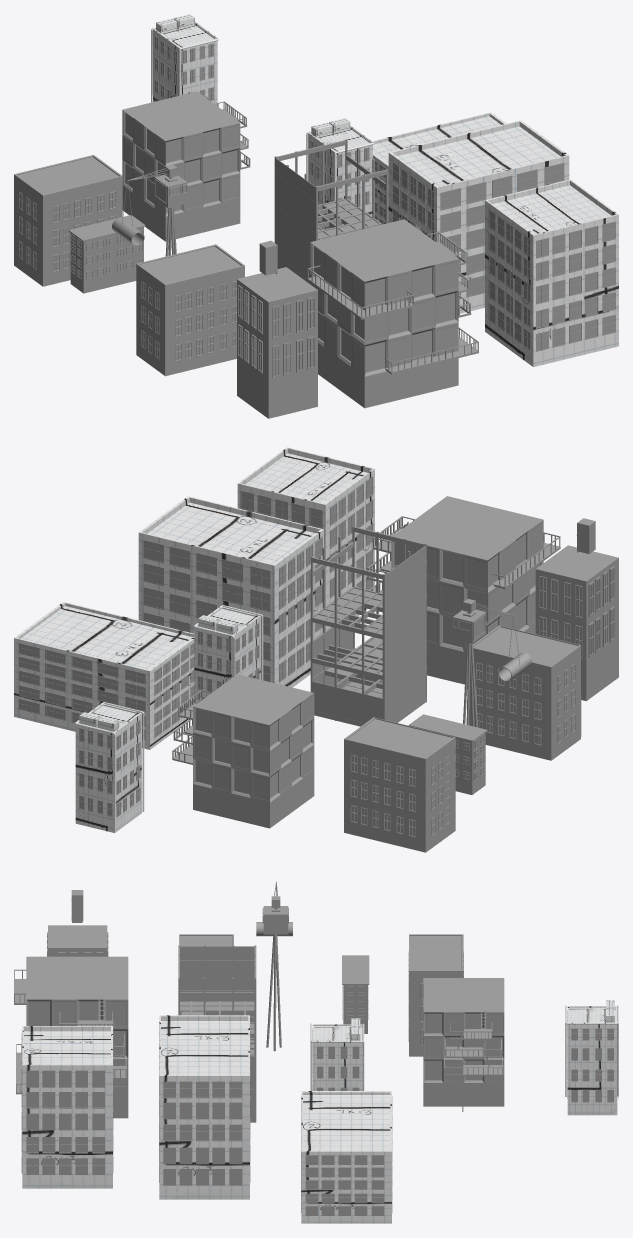
Rendered from Buildings_final.fbx.
The picture shows the model from 3 angles, top to bottom: view 1: azimuth 30°, elevation 25°; view 2: azimuth 150°, elevation 25°; view 3: azimuth 270°, elevation 25°; orthographic projection. The views are drawn at different scales.
Parts seen in each view (by area): view 1: pCylinder35, polySurface803, polySurface802, pCylinder72, pCube170, polySurface1655, pCube411, polySurface611, pCube412, polySurface1646, pCube410, polySurface1620 (+4 smaller); view 2: polySurface802, polySurface611, polySurface1620, pCylinder72, pCylinder35, pCube411, pCube170, polySurface803, polySurface1655, pCube412, pCube410, polySurface810 (+4 smaller); view 3: polySurface802, polySurface803, polySurface1620, pCylinder72, pCylinder35, polySurface611, pCube412, polySurface810, pCube410, pCube411, polySurface528, polySurface1655 (+2 smaller).
Part boxes in pixels (x1=…): pCylinder35: x1=310, y1=219, x2=478, y2=408; polySurface803: x1=485, y1=179, x2=618, y2=366; polySurface802: x1=388, y1=120, x2=569, y2=313; pCylinder72: x1=122, y1=91, x2=250, y2=241; pCube170: x1=136, y1=244, x2=244, y2=376; polySurface1655: x1=237, y1=267, x2=317, y2=418; pCube411: x1=14, y1=155, x2=122, y2=286; polySurface611: x1=274, y1=139, x2=388, y2=283; pCube412: x1=151, y1=14, x2=218, y2=105; polySurface1646: x1=68, y1=215, x2=145, y2=293; pCube410: x1=306, y1=118, x2=374, y2=229; polySurface1620: x1=372, y1=112, x2=506, y2=223; polySurface802: x1=138, y1=496, x2=323, y2=687; polySurface611: x1=310, y1=526, x2=426, y2=726; polySurface1620: x1=14, y1=602, x2=194, y2=749; pCylinder72: x1=172, y1=674, x2=314, y2=828; pCylinder35: x1=367, y1=496, x2=543, y2=684; pCube411: x1=344, y1=717, x2=455, y2=852; pCube170: x1=469, y1=625, x2=581, y2=760; polySurface803: x1=237, y1=447, x2=374, y2=630; polySurface1655: x1=535, y1=545, x2=618, y2=701; pCube412: x1=75, y1=702, x2=144, y2=832; pCube410: x1=193, y1=605, x2=263, y2=703; polySurface810: x1=14, y1=603, x2=194, y2=743; polySurface802: x1=159, y1=1015, x2=250, y2=1199; polySurface803: x1=21, y1=1026, x2=113, y2=1188; polySurface1620: x1=301, y1=1091, x2=392, y2=1223; pCylinder72: x1=423, y1=978, x2=504, y2=1106; pCylinder35: x1=16, y1=956, x2=128, y2=1118; polySurface611: x1=178, y1=945, x2=256, y2=1122; pCube412: x1=565, y1=1000, x2=618, y2=1115; polySurface810: x1=301, y1=1092, x2=392, y2=1221; pCube410: x1=310, y1=1018, x2=364, y2=1090; pCube411: x1=408, y1=934, x2=463, y2=1056; polySurface528: x1=256, y1=881, x2=292, y2=1051; polySurface1655: x1=47, y1=925, x2=108, y2=956.
Bounding box in the file's own units: 22.67 × 7.99 × 28.74.
